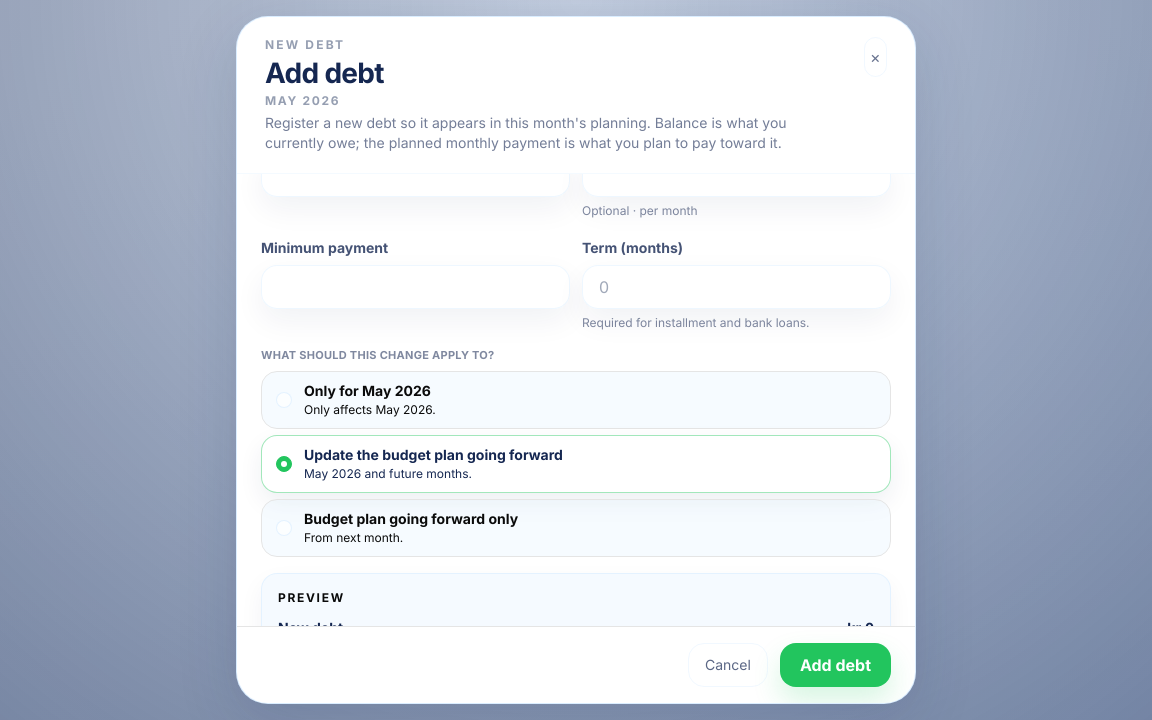
Test: DebtCreateModal › shows a month-only callout only when the user picks 'Only this month' so a month-only add is never silent
(page scrolled)
Click the radio button labelled "Only for May 2026 Only affects May 2026." at (367, 390), box [261,371,891,429]
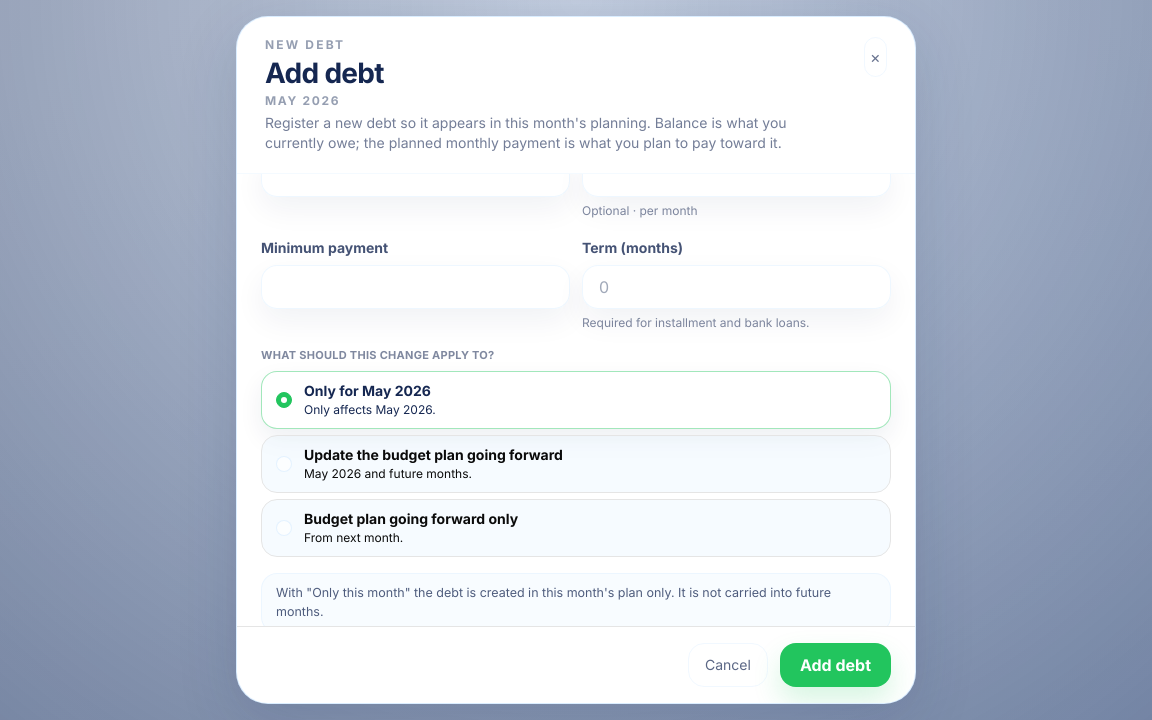
Check: the text with test id "debt-create-month-only-callout" is shown, box [261,573,891,626]
